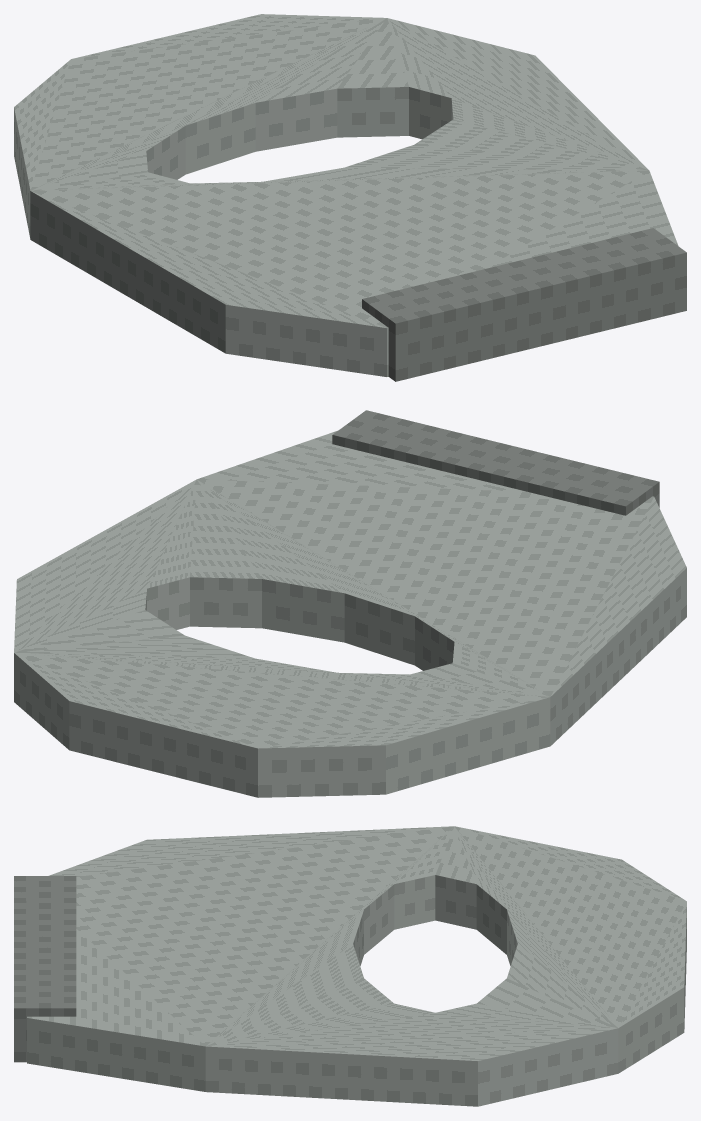
File: nomex_hood.glb
3 views of the same model, one above another, from view 1: azimuth 30°, elevation 25°; view 2: azimuth 150°, elevation 25°; view 3: azimuth 270°, elevation 25° (orthographic). The views are drawn at different scales.
Visible parts, largest first — view 1: block_knitted face covering, block_neck hem; view 2: block_knitted face covering, block_neck hem; view 3: block_knitted face covering, block_neck hem.
Boxes of the visible parts, x1,y1,x2,y2 form: block_knitted face covering: (14,14,678,376); block_neck hem: (362,228,686,381); block_knitted face covering: (14,430,686,797); block_neck hem: (332,410,659,515); block_knitted face covering: (27,826,686,1106); block_neck hem: (14,876,76,1062).
Bounding box in the file's own units: 0.1652 × 0.0178 × 0.2.
1 material, 1 textured.
